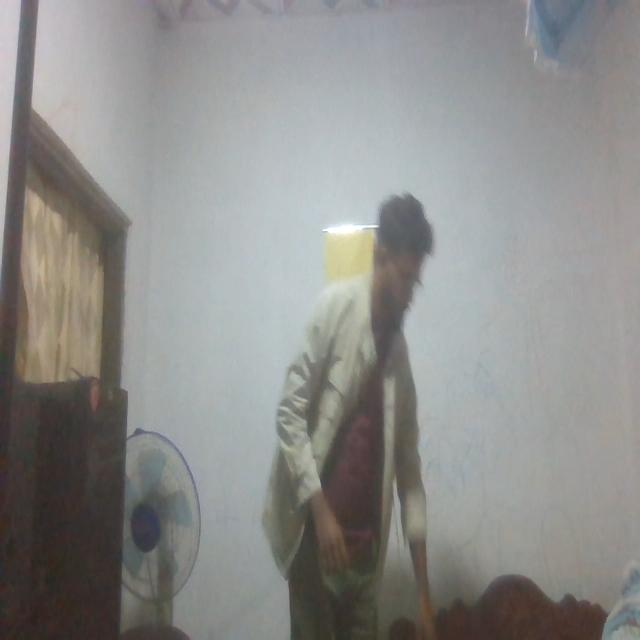Jacket_Wearer: (260, 286, 435, 587)
Person: (260, 191, 470, 640)
